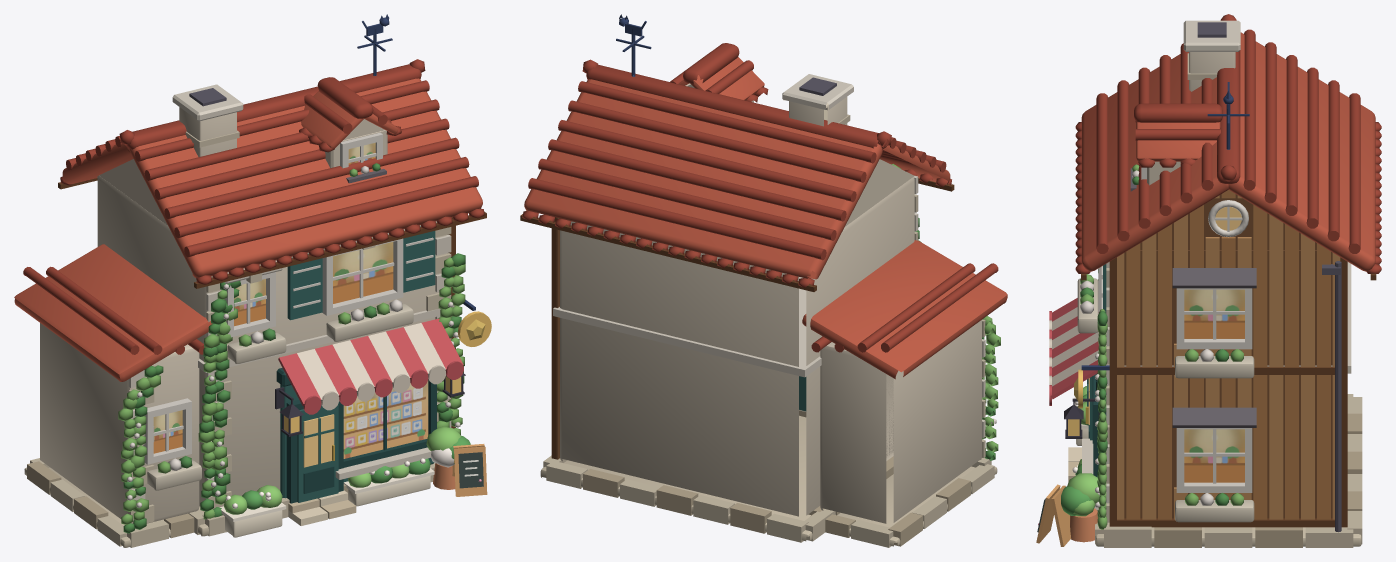
Rendered from ac_shop_r0.glb.
3 views of the same model, side by side, from view 1: azimuth 30°, elevation 25°; view 2: azimuth 150°, elevation 25°; view 3: azimuth 270°, elevation 25° (orthographic). The views are drawn at different scales.
Visible parts, largest first — view 1: body, nomask; view 2: body; view 3: body, nomask.
Part boxes in pixels (x1,y1,x2,y2): body: [14, 14, 491, 547]; nomask: [219, 426, 487, 537]; body: [520, 14, 1007, 547]; body: [1049, 14, 1381, 547]; nomask: [1036, 386, 1099, 546].
Size of the model in its own units: 9.56 by 10.52 by 7.4.
Materials: 9 (2 with a texture image).
